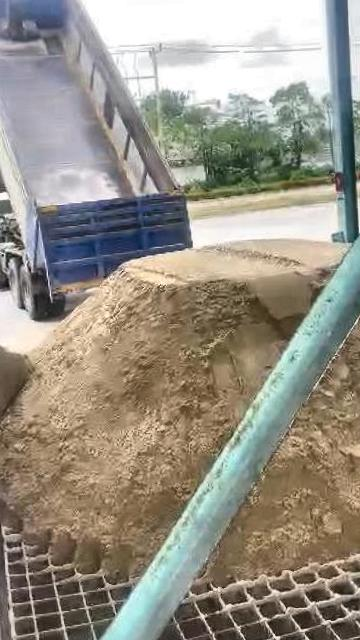sand: (0, 241, 344, 576), (209, 314, 360, 581), (0, 328, 29, 456)
